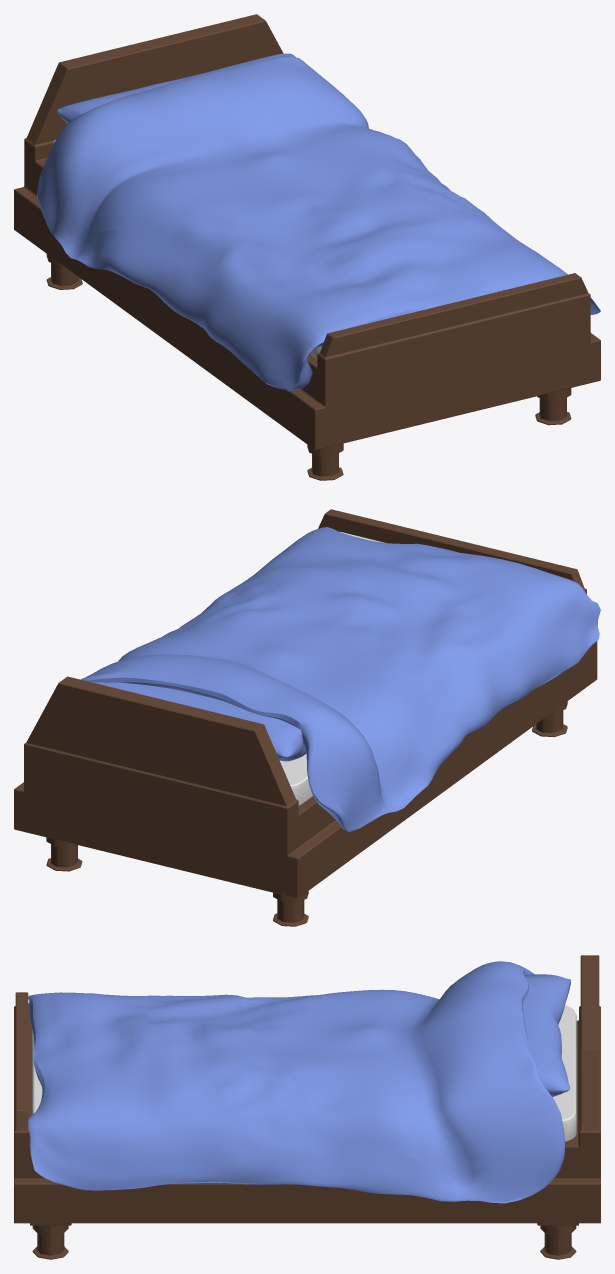
File: low_poly_style_bed.glb
The picture shows the model from 3 angles, top to bottom: view 1: azimuth 30°, elevation 25°; view 2: azimuth 150°, elevation 25°; view 3: azimuth 270°, elevation 25°; orthographic projection. The views are drawn at different scales.
Parts seen in each view (by area): view 1: Bed; view 2: Bed; view 3: Bed.
Part boxes in pixels (box(x1,y1,x2,y2)): Bed: box(14, 14, 600, 480); Bed: box(14, 509, 600, 926); Bed: box(14, 955, 600, 1259).
Size of the model in its own units: 1.7 by 0.9776 by 2.65.
